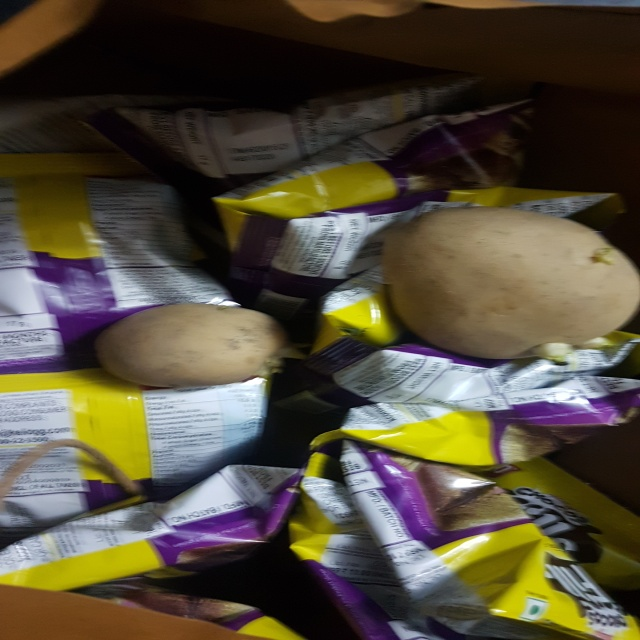potato: (378, 206, 640, 367), (92, 292, 322, 392)
